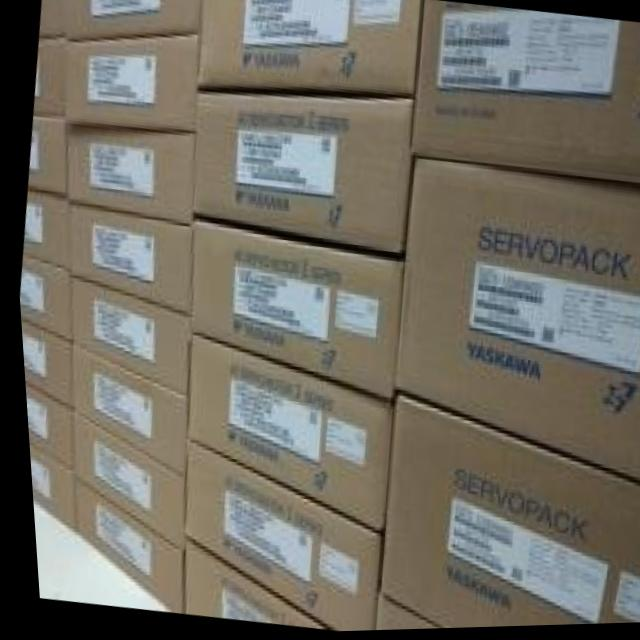box: (388, 159, 640, 487), (372, 395, 640, 631), (409, 2, 640, 189), (181, 336, 389, 533), (177, 440, 375, 633), (188, 220, 400, 400), (190, 92, 412, 256), (195, 0, 420, 99), (65, 412, 180, 551), (67, 346, 185, 478), (66, 275, 189, 397), (67, 480, 178, 615), (65, 202, 189, 316), (175, 539, 321, 632), (64, 37, 199, 135), (64, 126, 193, 228), (67, 0, 202, 42), (17, 320, 69, 410), (16, 255, 67, 342), (20, 384, 69, 471), (19, 189, 66, 272), (23, 444, 68, 529), (25, 116, 64, 196), (32, 35, 67, 117), (367, 597, 432, 632), (38, 0, 64, 38)
